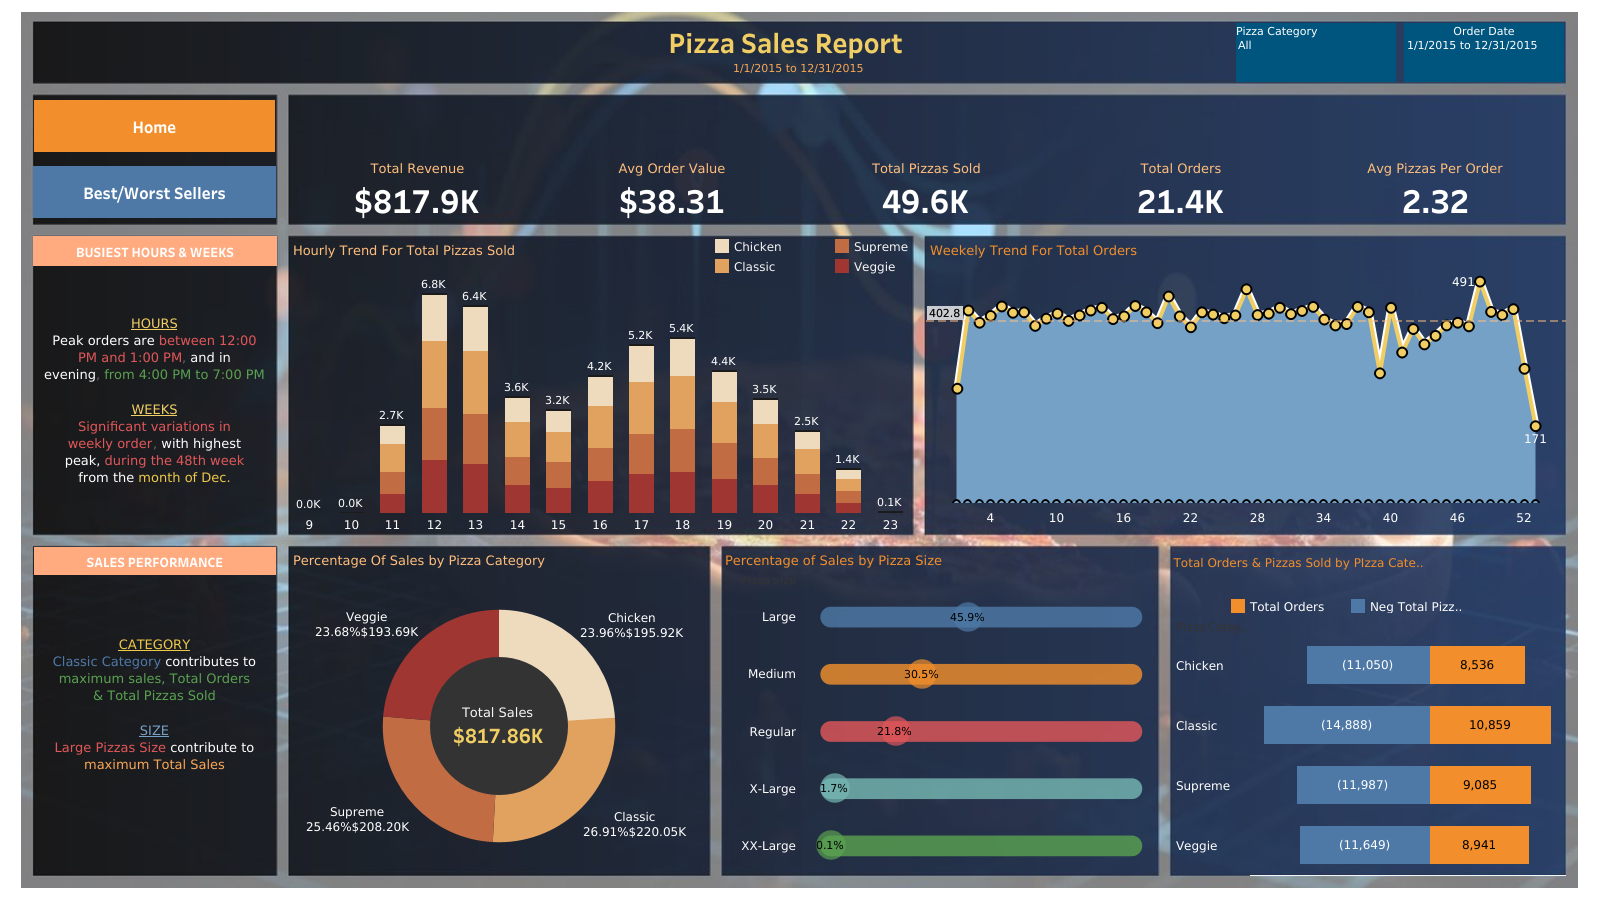

The dashboard page shown, as its layout file describes it:
{"tool":"tableau","page":{"name":"Home Dashboard","canvas":[1600,900],"ordinal":1},"visuals":[{"type":"image","param":"Image/Pizza Tableau 1.jpg","box":[8,8,1584,884]},{"type":"text","box":[666,23,240,37]},{"type":"filter","title":"Hourly Trend For Total Pizzas Sold","param":"[federated.1pr4o1n1k5imic1a7q5us1xuu4pz].[none:pizza_category:nk]","box":[1236,23,160,59]},{"type":"filter","title":"Hourly Trend For Total Pizzas Sold","param":"[federated.1pr4o1n1k5imic1a7q5us1xuu4pz].[none:order_date:qk]","box":[1404,23,160,59]},{"type":"worksheet","title":"Date Range","mark":"Automatic","box":[663,57,272,23]},{"type":"dashboard-object","box":[34,100,241,52]},{"type":"worksheet","title":"KPI","mark":"Automatic","box":[290,137,1273,86]},{"type":"dashboard-object","box":[33,166,243,52]},{"type":"text","box":[33,236,244,30]},{"type":"worksheet","title":"Hourly Trend For Total Pizzas Sold","mark":"Bar","rows":["Calculation_0172368085467139","Calculation_0172368085467139"],"cols":["order_time"],"box":[289,236,622,297]},{"type":"legend","title":"Hourly Trend For Total Pizzas Sold","param":"[federated.1pr4o1n1k5imic1a7q5us1xuu4pz].[none:pizza_category:nk]","box":[712,236,242,46]},{"type":"worksheet","title":"Weekely Trend For Total Orders","mark":"Area","rows":["Calculation_0172368085233665","Calculation_0172368085233665"],"cols":["order_date"],"box":[926,236,640,297]},{"type":"text","box":[33,267,243,267]},{"type":"worksheet","title":"Percentage Of Sales by Pizza Category","mark":"Pie","rows":["Calculation_0291665435934721","Calculation_0291665435967491"],"box":[289,546,420,328]},{"type":"worksheet","title":"Percentage of Sales by Pizza Size","mark":"Line","rows":["pizza_size"],"box":[721,546,436,328]},{"type":"text","box":[34,547,242,28]},{"type":"text","box":[1171,547,255,30]},{"type":"legend","title":"Total Pizzas & Pizzas Sold by Pizza Category ","param":"[federated.1pr4o1n1k5imic1a7q5us1xuu4pz].[:Measure Names]","box":[1228,596,329,17]},{"type":"text","box":[35,600,239,208]},{"type":"worksheet","title":"Total Pizzas & Pizzas Sold by Pizza Category ","mark":"Automatic","rows":["pizza_category"],"box":[1170,615,395,260]}]}

Visuals, with their boxes in screenshot pixels (x1, y1, x2, y2), scaled from the page's 1600x900 canvas onto the 1599x899 screenshot:
image: <bbox>8, 8, 1591, 891</bbox>
text: <bbox>666, 23, 905, 60</bbox>
"Hourly Trend For Total Pizzas Sold" filter: <bbox>1235, 23, 1395, 82</bbox>
"Hourly Trend For Total Pizzas Sold" filter: <bbox>1403, 23, 1563, 82</bbox>
"Date Range" worksheet: <bbox>663, 57, 934, 80</bbox>
dashboard-object: <bbox>34, 100, 275, 152</bbox>
"KPI" worksheet: <bbox>290, 137, 1562, 223</bbox>
dashboard-object: <bbox>33, 166, 276, 218</bbox>
text: <bbox>33, 236, 277, 266</bbox>
"Hourly Trend For Total Pizzas Sold" worksheet (Bar marks): <bbox>289, 236, 910, 532</bbox>
"Hourly Trend For Total Pizzas Sold" legend: <bbox>712, 236, 953, 282</bbox>
"Weekely Trend For Total Orders" worksheet (Area marks): <bbox>925, 236, 1565, 532</bbox>
text: <bbox>33, 267, 276, 533</bbox>
"Percentage Of Sales by Pizza Category" worksheet (Pie marks): <bbox>289, 545, 709, 873</bbox>
"Percentage of Sales by Pizza Size" worksheet (Line marks): <bbox>721, 545, 1156, 873</bbox>
text: <bbox>34, 546, 276, 574</bbox>
text: <bbox>1170, 546, 1425, 576</bbox>
"Total Pizzas & Pizzas Sold by Pizza Category " legend: <bbox>1227, 595, 1556, 612</bbox>
text: <bbox>35, 599, 274, 807</bbox>
"Total Pizzas & Pizzas Sold by Pizza Category " worksheet: <bbox>1169, 614, 1564, 874</bbox>
